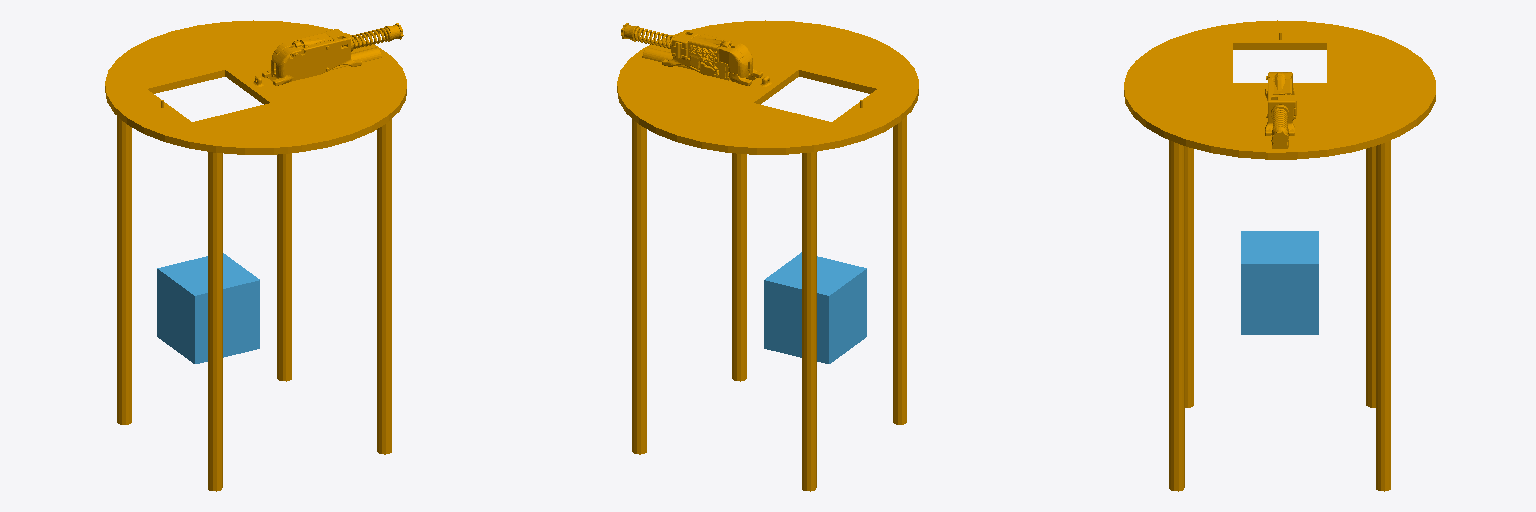
URDF robot description (plate):
<?xml version="1.0" ?>
<robot name="plate">
    <joint name="motor0" type="prismatic">
        <parent link="plate"/>
        <child link="weight"/>
        <origin rpy="0  0  0" xyz="0   0   0.2"/>
        <axis xyz="0.060 0 0.510"/>
        <limit effort="0.0" lower="-1000.0" upper="1000.0" velocity="0.0"/>
    </joint>
    <link name="plate">
        <inertial>
            <mass value="13.4708"/>
            <origin rpy="0  0  0" xyz="0.07517  0       0.41243"/>
            <inertia ixx="0.480204" ixy="-3.06614e-06" ixz="0.0113382" iyy="0.472612" iyz="-6.11694e-06"
                     izz="0.341787"/>
        </inertial>
        <collision name="plate_collision">
            <origin rpy="0  0  0" xyz="0  0  0"/>
            <geometry>
                <mesh filename="package://roboy_simulation/plate/cad/plate.STL" scale="1 1 1"/>
            </geometry>
        </collision>
        <visual name="plate__plate_visual">
            <origin rpy="0  0  0" xyz="0  0  0"/>
            <geometry>
                <mesh filename="package://roboy_simulation/plate/cad/plate.STL" scale="1 1 1"/>
            </geometry>
        </visual>
    </link>
    <link name="weight">
        <inertial>
            <mass value="10"/>
            <origin rpy="0  0  0" xyz="0  0  0"/>
            <inertia ixx="1" ixy="0" ixz="0" iyy="1" iyz="0" izz="1"/>
        </inertial>
        <collision name="weight__collision">
            <origin rpy="0  0  0" xyz="0  0  0"/>
            <geometry>
                <box size=".1 .1 .1"/>
            </geometry>
        </collision>
        <visual name="weight__visual">
            <origin rpy="0  0  0" xyz="0  0  0"/>
            <geometry>
                <box size=".1 .1 .1"/>
            </geometry>
        </visual>
    </link>
</robot>

--- Render facts (derived) ---
Views: 3 orthographic renders of the robot side by side, from view 1: azimuth 30°, elevation 25°; view 2: azimuth 150°, elevation 25°; view 3: azimuth 270°, elevation 25°.
Robot: plate — 2 links, 1 joints (1 prismatic); root link plate; default pose: all joints at 0.
Visible links, largest first — view 1: plate, weight; view 2: plate, weight; view 3: plate, weight.
Boxes of the visible links, box(x1,y1,x2,y2) form: plate: box(105, 20, 406, 491); weight: box(157, 253, 259, 363); plate: box(617, 20, 918, 491); weight: box(764, 252, 866, 363); plate: box(1124, 20, 1435, 491); weight: box(1241, 231, 1318, 334).
Bounding box of the posed robot: 0.4185 × 0.3995 × 0.5576 m (x, y, z).
Meshes: 1 distinct files referenced, 1 mesh visuals loaded (1 binary STL).